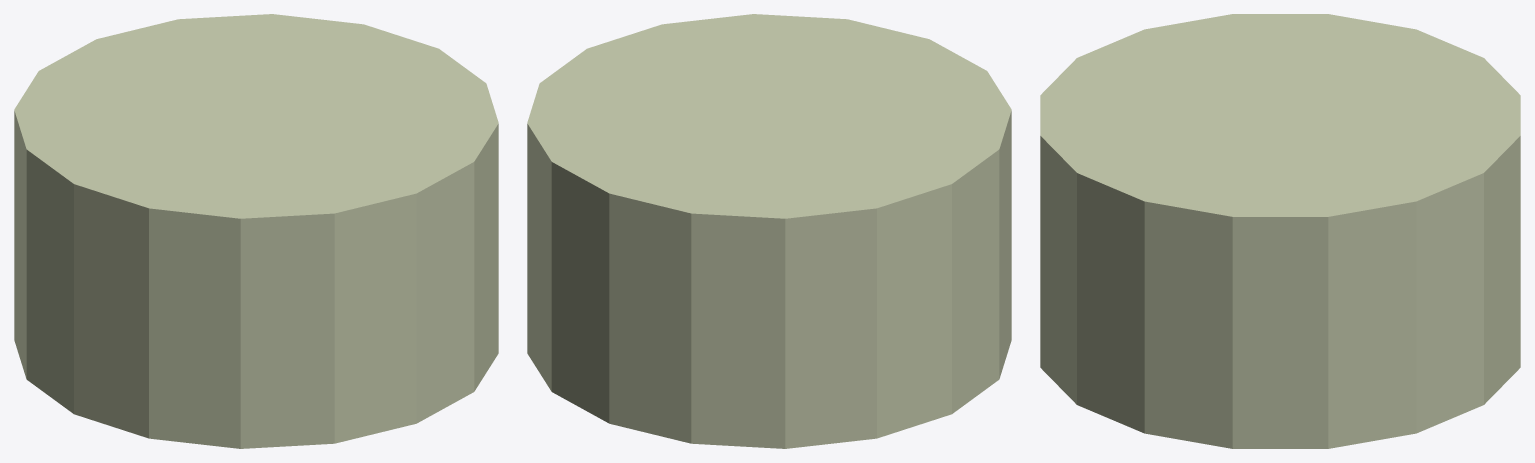
Rendered from regulus_fuselage_s1p5_1_collider.obj.
3 renders of one model, left to right at view 1: azimuth 30°, elevation 25°; view 2: azimuth 150°, elevation 25°; view 3: azimuth 270°, elevation 25°, orthographic.
Parts seen in each view (by area): view 1: regulus_fuselage_s1p5_1_collider; view 2: regulus_fuselage_s1p5_1_collider; view 3: regulus_fuselage_s1p5_1_collider.
Boxes of the visible parts, x1,y1,x2,y2 form: regulus_fuselage_s1p5_1_collider: (14,14,498,448); regulus_fuselage_s1p5_1_collider: (527,14,1011,448); regulus_fuselage_s1p5_1_collider: (1040,14,1520,448).
Size of the model in its own units: 1.88 by 1 by 1.88.
